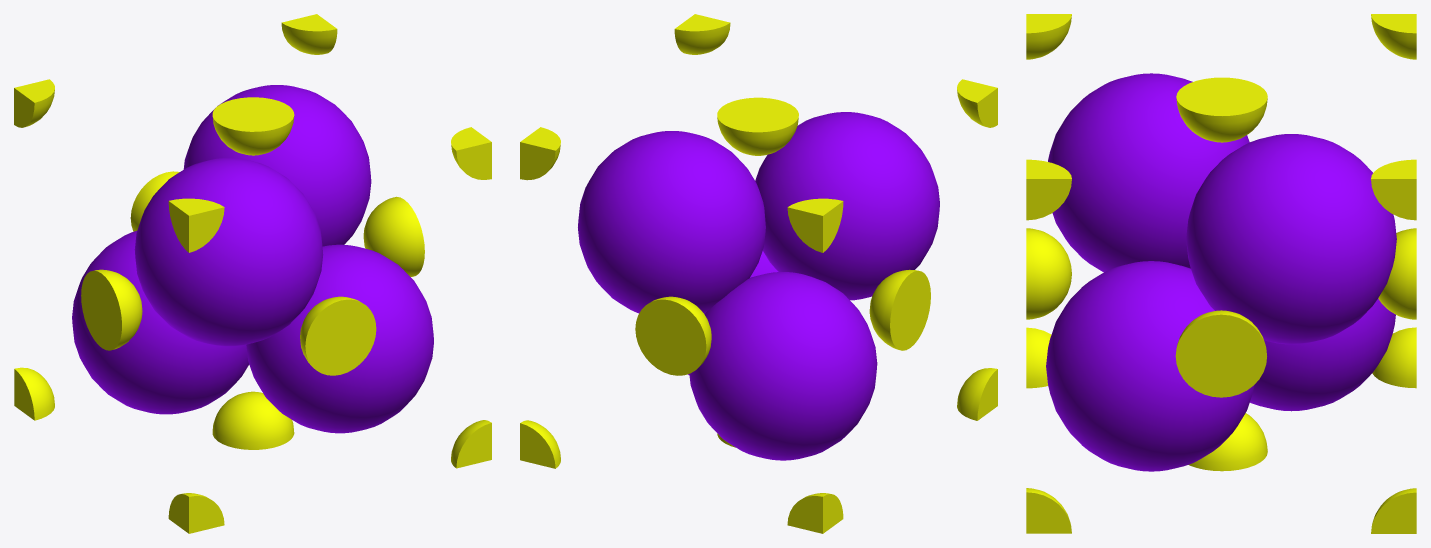
Rendered from lzi4.FBX.
The picture shows the model from 3 angles, left to right: view 1: azimuth 30°, elevation 25°; view 2: azimuth 150°, elevation 25°; view 3: azimuth 270°, elevation 25°; orthographic projection. The views are drawn at different scales.
Visible parts, largest first — view 1: zns_qiege, Sphere002, Sphere001, Sphere003, Sphere004; view 2: Sphere003, Sphere004, zns_qiege, Sphere002; view 3: Sphere004, zns_qiege, Sphere001, Sphere002, Sphere003.
Part boxes in pixels (x1,y1,x2,y2): zns_qiege: (14, 14, 491, 533); Sphere002: (134, 158, 323, 346); Sphere001: (246, 244, 433, 433); Sphere003: (72, 231, 249, 414); Sphere004: (183, 85, 371, 246); Sphere003: (689, 272, 877, 460); Sphere004: (578, 131, 765, 313); zns_qiege: (520, 14, 997, 533); Sphere002: (755, 112, 939, 300); Sphere004: (1186, 134, 1396, 344); zns_qiege: (1026, 14, 1416, 533); Sphere001: (1046, 261, 1254, 471); Sphere002: (1048, 73, 1249, 272); Sphere003: (1250, 298, 1395, 411).
Bounding box in the file's own units: 28.13 × 28.24 × 28.14.
